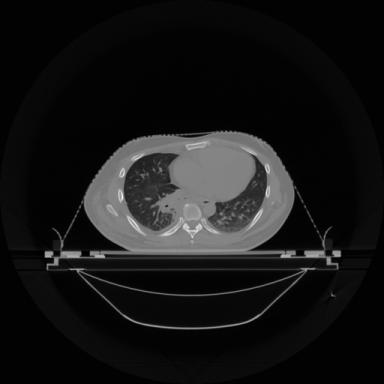body: (84, 131, 294, 252)
cord: (182, 203, 202, 242)
paru kanan: (124, 153, 178, 230)
paru kiri: (208, 156, 266, 232)
